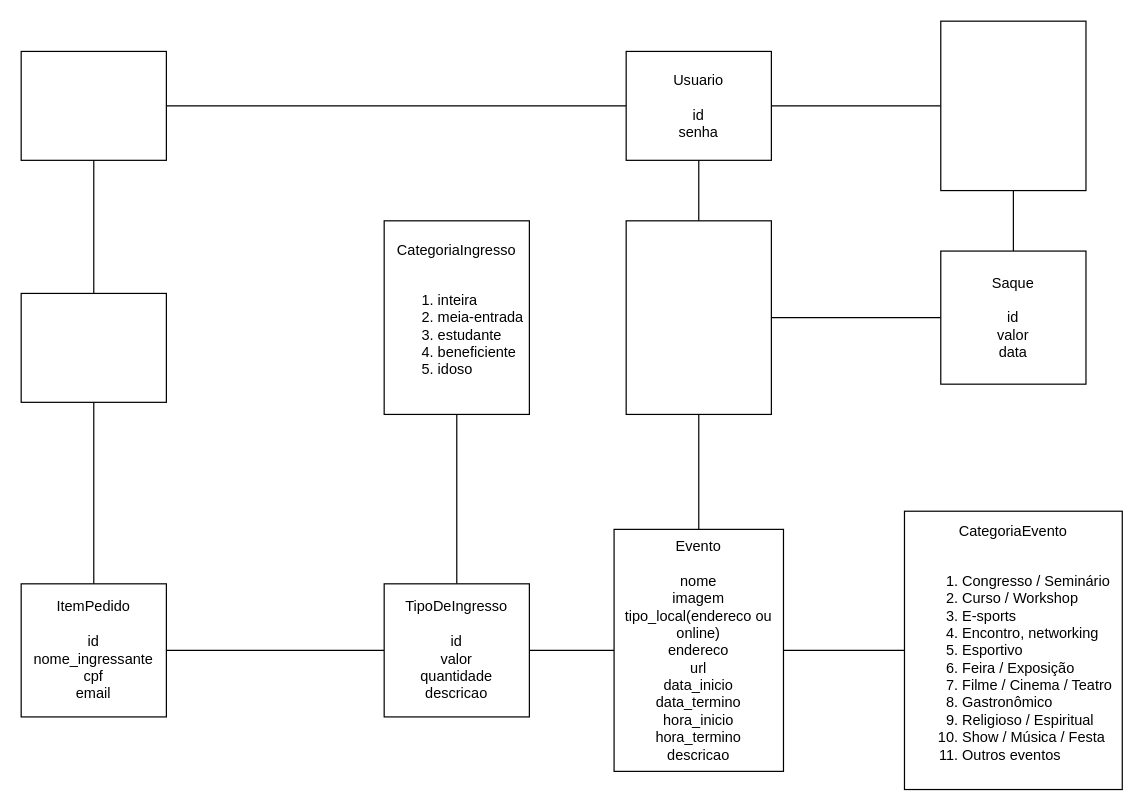
Image size: 1143x811. Some labels were removed from this diagram. Each missing label, with the box of its shape:
Administrador id nome banco agencia conta ativo: (940, 20, 1086, 191)
Comprador id nome cpf ativo: (20, 50, 166, 160)
Organizadora id razao_social cnpj valor_carteira banco agencia conta ativo: (625, 220, 771, 414)
Pedido id data: (20, 292, 166, 402)
